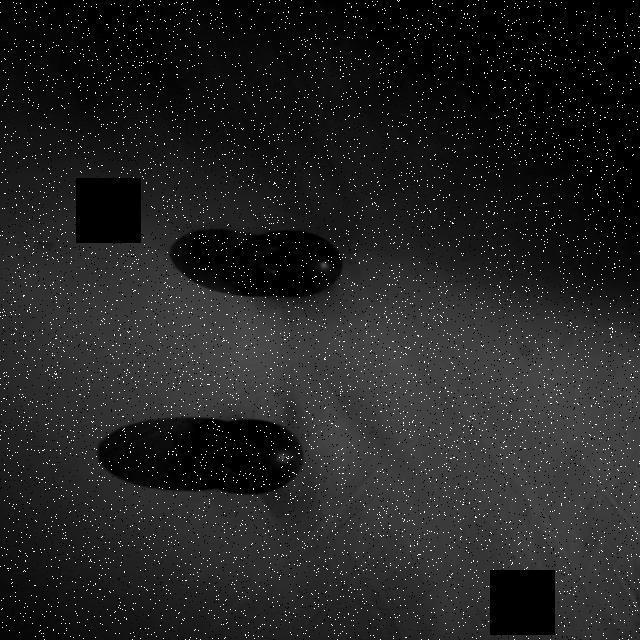egg: (178, 413, 304, 499), (226, 226, 346, 302)
